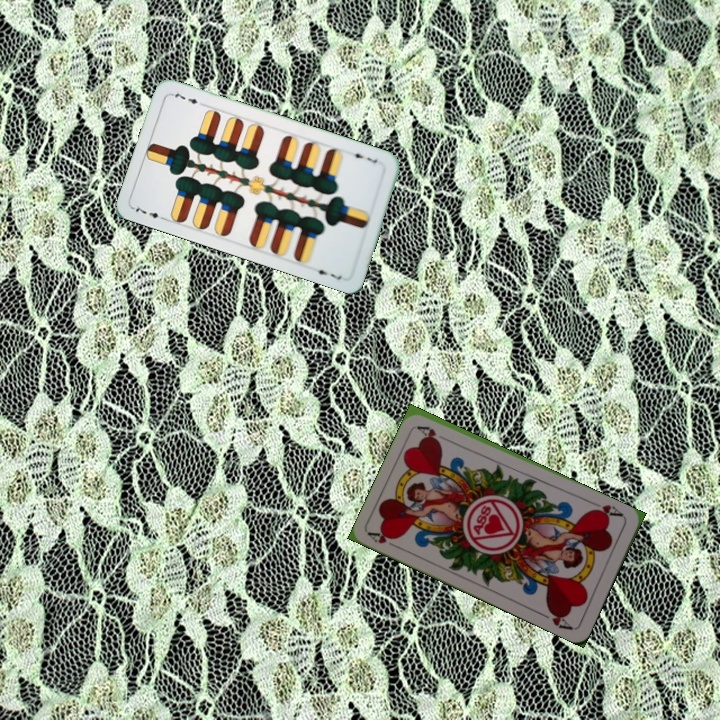E7: (130, 201, 169, 223), (347, 148, 380, 166)
HA: (365, 527, 404, 552), (586, 498, 627, 521)
